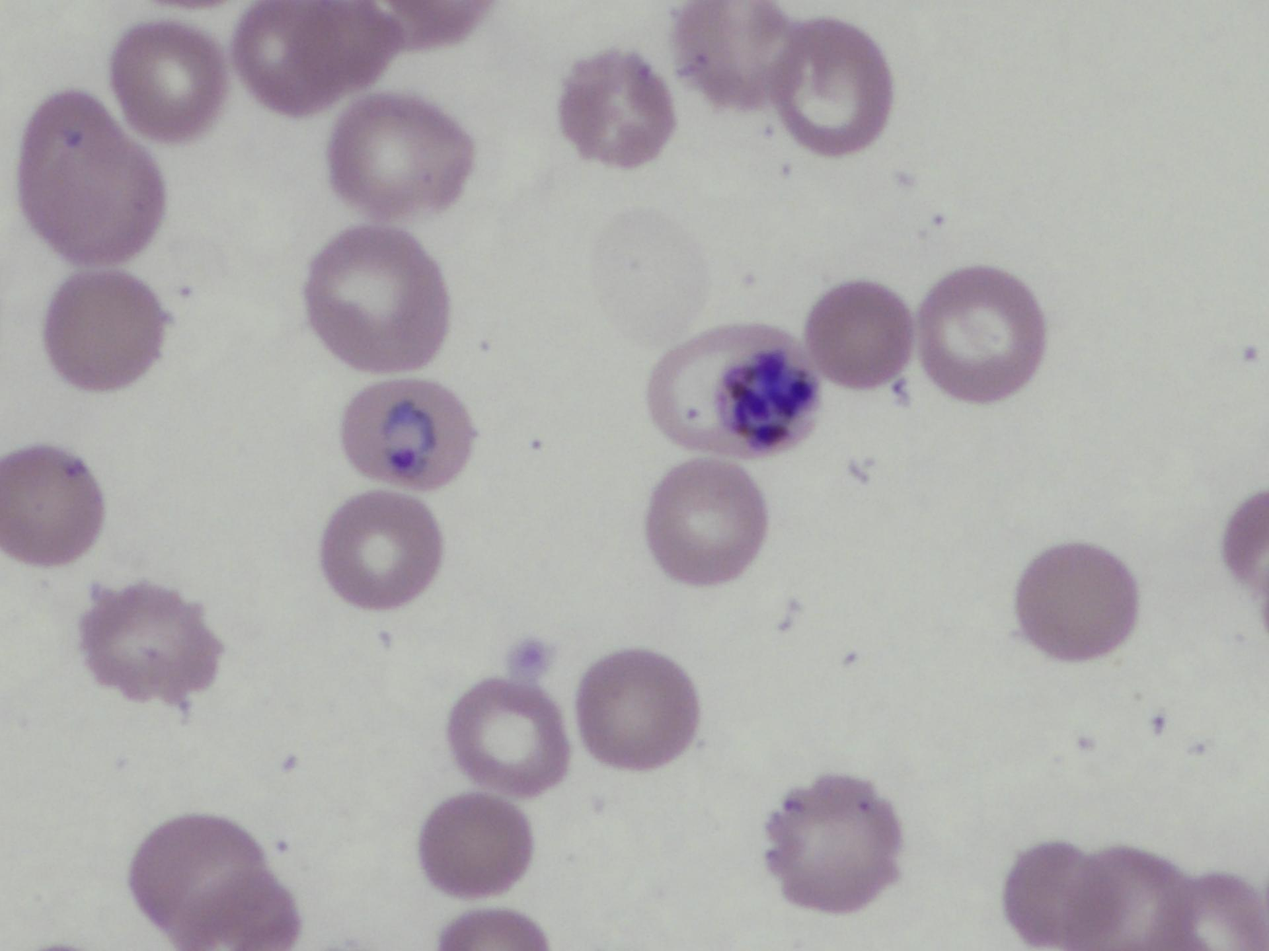Infected: (649, 323, 820, 462), (336, 373, 475, 496)
Uninfected: (17, 87, 165, 264), (126, 813, 295, 951), (303, 228, 449, 372), (762, 778, 900, 911), (915, 264, 1049, 400), (77, 580, 221, 706), (326, 92, 471, 217), (239, 1, 398, 113), (775, 20, 895, 157), (643, 459, 769, 586), (452, 675, 576, 803), (318, 491, 445, 612), (40, 269, 163, 391), (1012, 543, 1137, 662), (576, 650, 698, 771), (108, 21, 225, 137), (557, 50, 674, 165), (1047, 849, 1176, 945), (803, 280, 915, 389), (0, 445, 102, 564), (675, 2, 786, 108), (423, 792, 529, 897), (1006, 845, 1095, 944), (1188, 879, 1265, 948)
